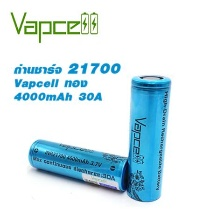battery: (123, 70, 173, 206), (25, 133, 134, 195)
